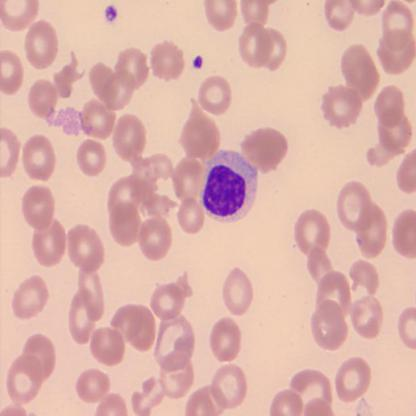Myelocyte: (204, 151, 256, 224)
